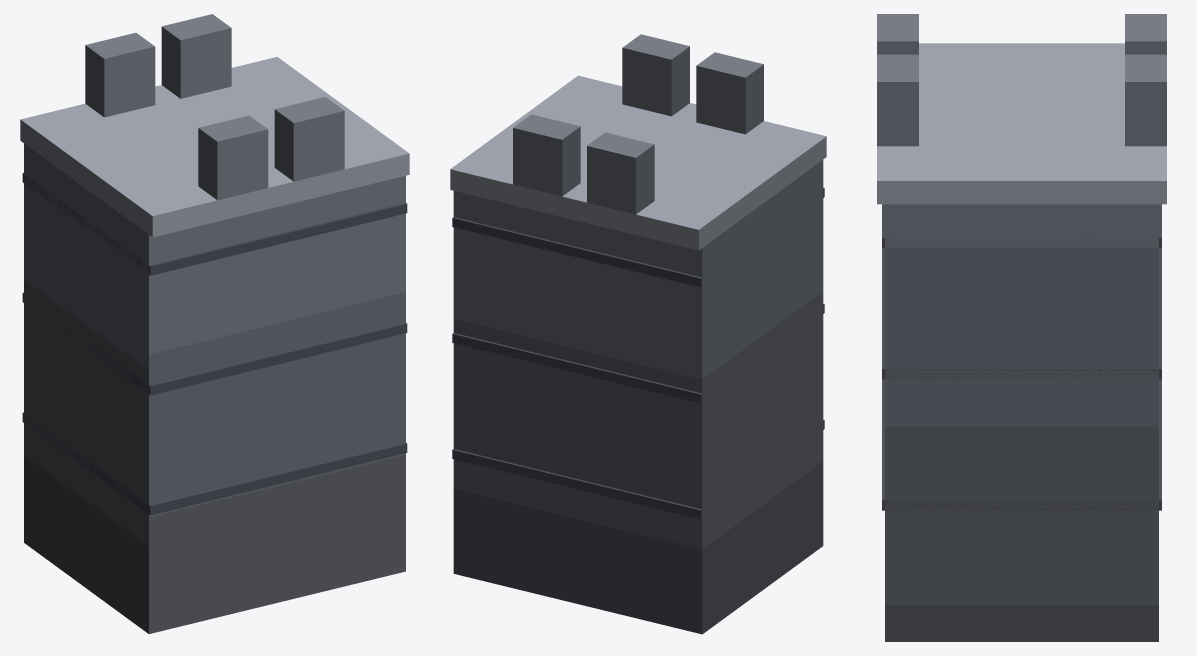
File: perimeter_wall_metal_straight.glb
The picture shows the model from 3 angles, left to right: view 1: azimuth 30°, elevation 25°; view 2: azimuth 150°, elevation 25°; view 3: azimuth 270°, elevation 25°; orthographic projection. The views are drawn at different scales.
Bounding box in the file's own units: 2.02 × 3.6 × 2.
Materials: 1 (1 with a texture image).
